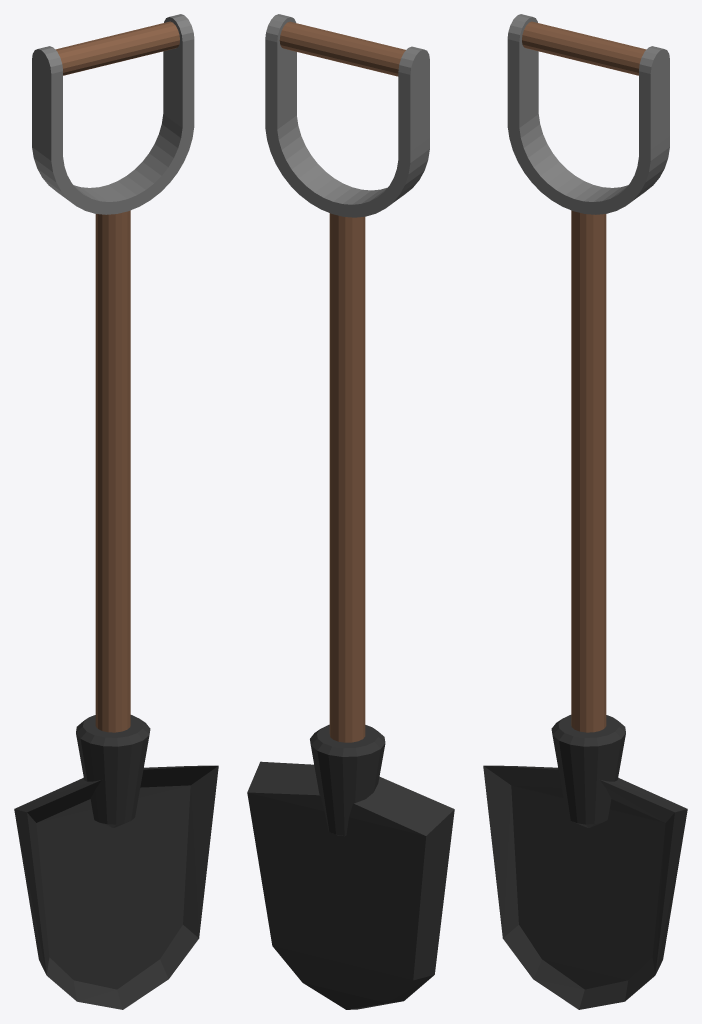
File: Shovel.fbx
The picture shows the model from 3 angles, left to right: view 1: azimuth 30°, elevation 25°; view 2: azimuth 150°, elevation 25°; view 3: azimuth 330°, elevation 25°; orthographic projection.
Visible parts, largest first — view 1: Shovel; view 2: Shovel; view 3: Shovel.
Boxes of the visible parts, left/top/right/bottom form: Shovel: left=14, top=14, right=218, bottom=1009; Shovel: left=247, top=14, right=454, bottom=1009; Shovel: left=483, top=14, right=687, bottom=1009.
Bounding box in the file's own units: 200 × 967 × 68.01.
1 material, 1 textured.
